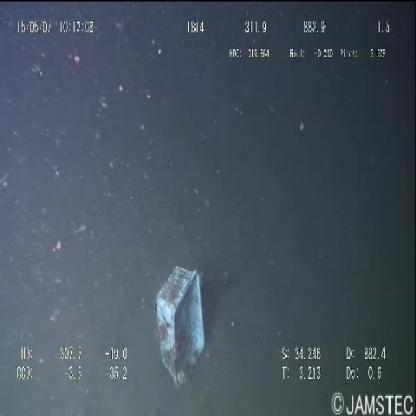Rác: (152, 260, 209, 392)
